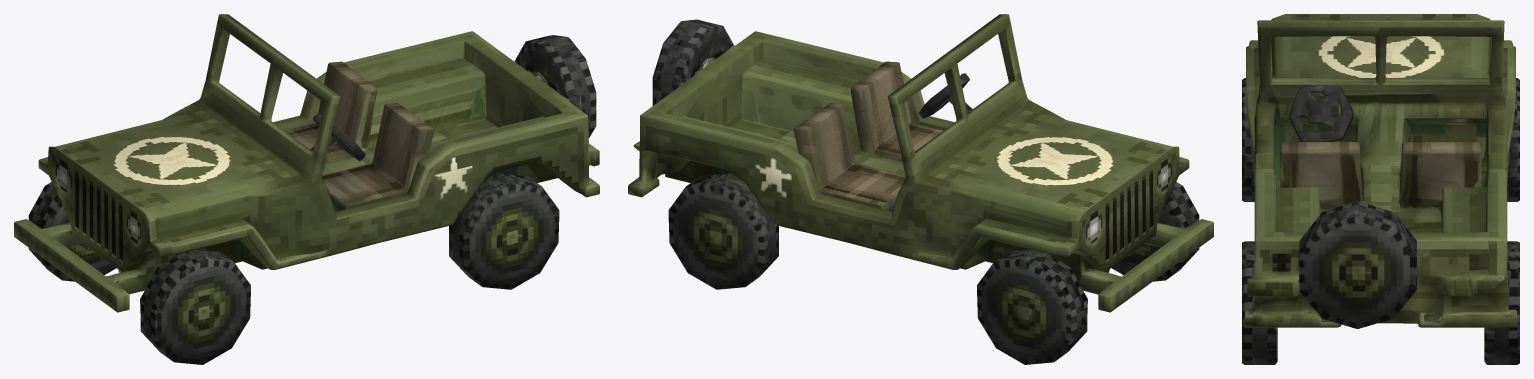
File: army_jeep.glb
The picture shows the model from 3 angles, left to right: view 1: azimuth 30°, elevation 25°; view 2: azimuth 150°, elevation 25°; view 3: azimuth 270°, elevation 25°; orthographic projection. The views are drawn at different scales.
Visible parts, largest first — view 1: Object_5; view 2: Object_5; view 3: Object_5.
Part boxes in pixels (box(x1,y1,x2,y2)): Object_5: box(14, 14, 599, 364); Object_5: box(628, 14, 1213, 364); Object_5: box(1242, 14, 1519, 364).
Bounding box in the file's own units: 1.91 × 0.8493 × 0.8571.
Materials: 1 (1 with a texture image).
